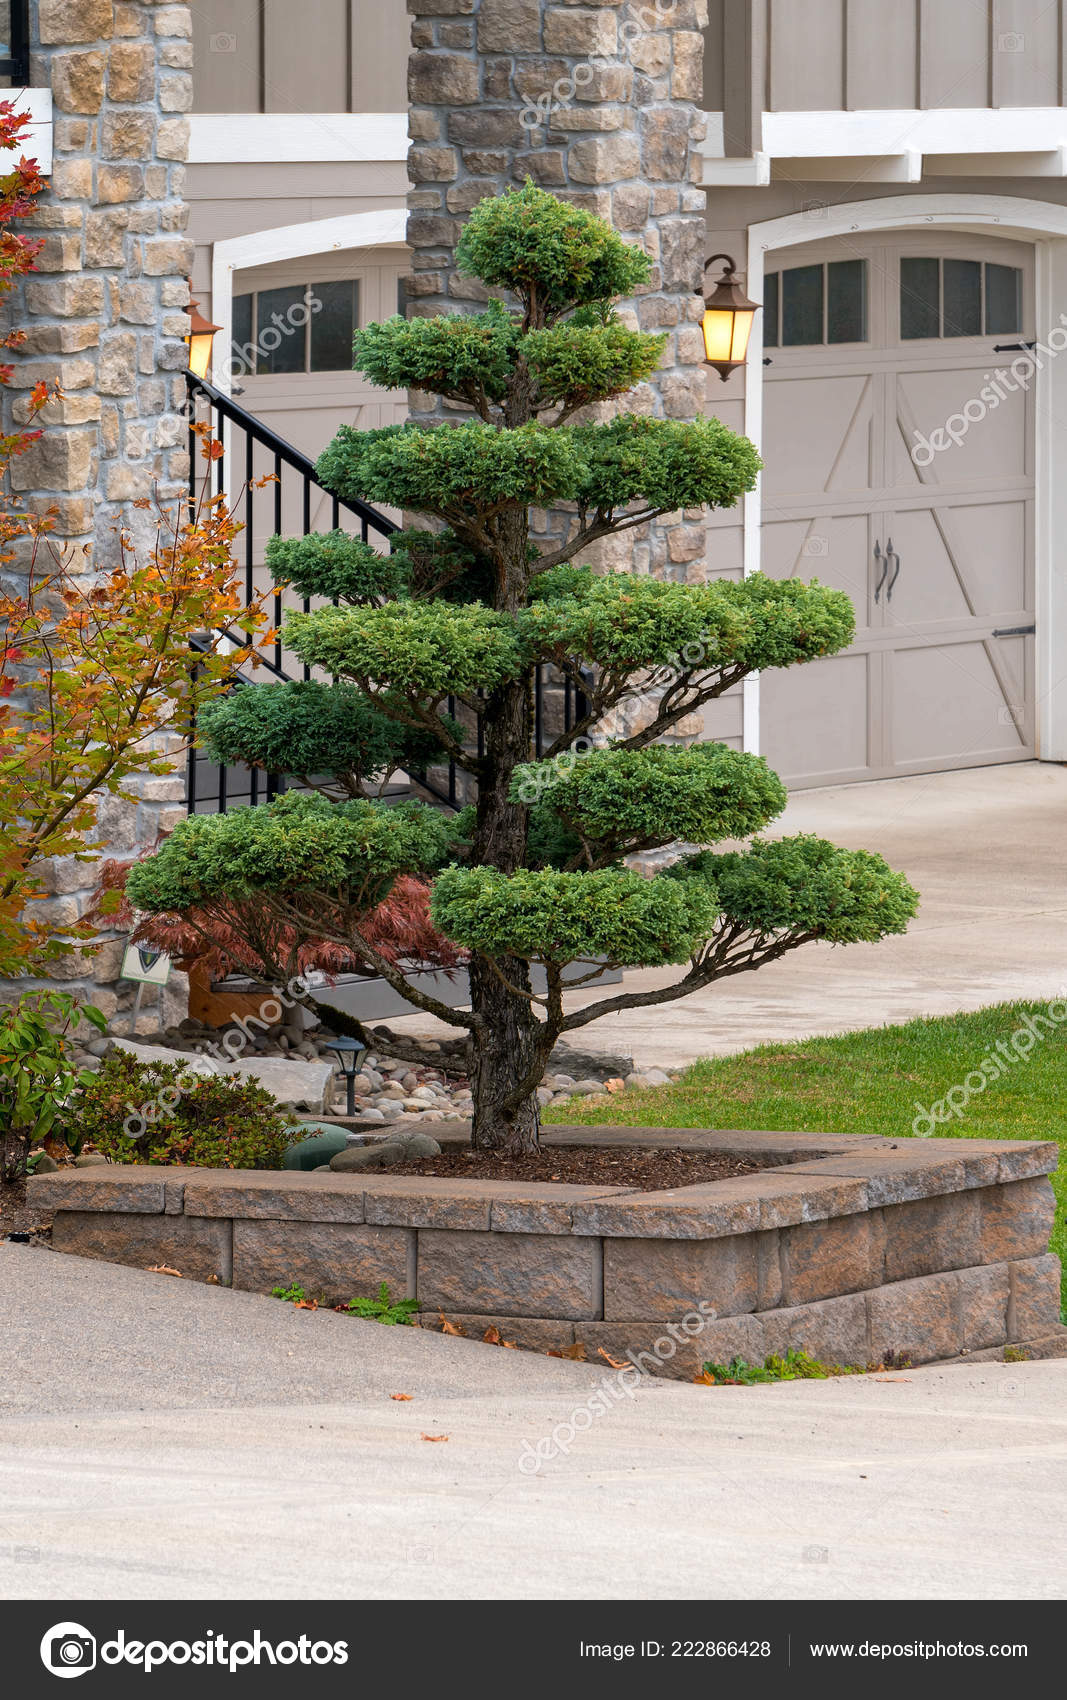tree: (138, 203, 899, 1163)
